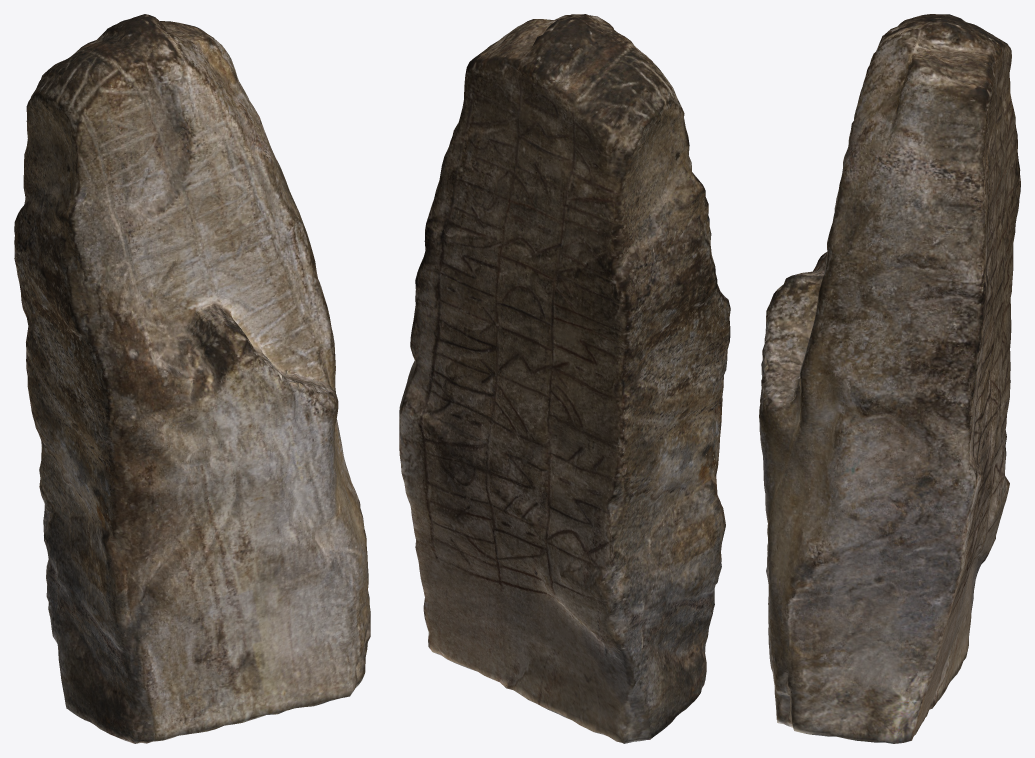
Rendered from Sigtrygg-Runestone-DR4.fbx.
3 renders of one model, left to right at view 1: azimuth 30°, elevation 25°; view 2: azimuth 150°, elevation 25°; view 3: azimuth 270°, elevation 25°, orthographic. The views are drawn at different scales.
Visible parts, largest first — view 1: LO - Sigtrygg-Runestone-DR4; view 2: LO - Sigtrygg-Runestone-DR4; view 3: LO - Sigtrygg-Runestone-DR4.
Part boxes in pixels (x1,y1,x2,y2): LO - Sigtrygg-Runestone-DR4: [14, 14, 370, 743]; LO - Sigtrygg-Runestone-DR4: [399, 14, 730, 743]; LO - Sigtrygg-Runestone-DR4: [759, 14, 1020, 743].
Size of the model in its own units: 144 by 124 by 350.
1 material, 1 textured.
